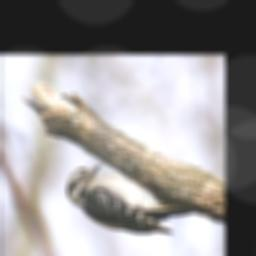Woodpecker: (58, 160, 196, 240)
